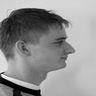ear: (13, 38, 35, 59)
